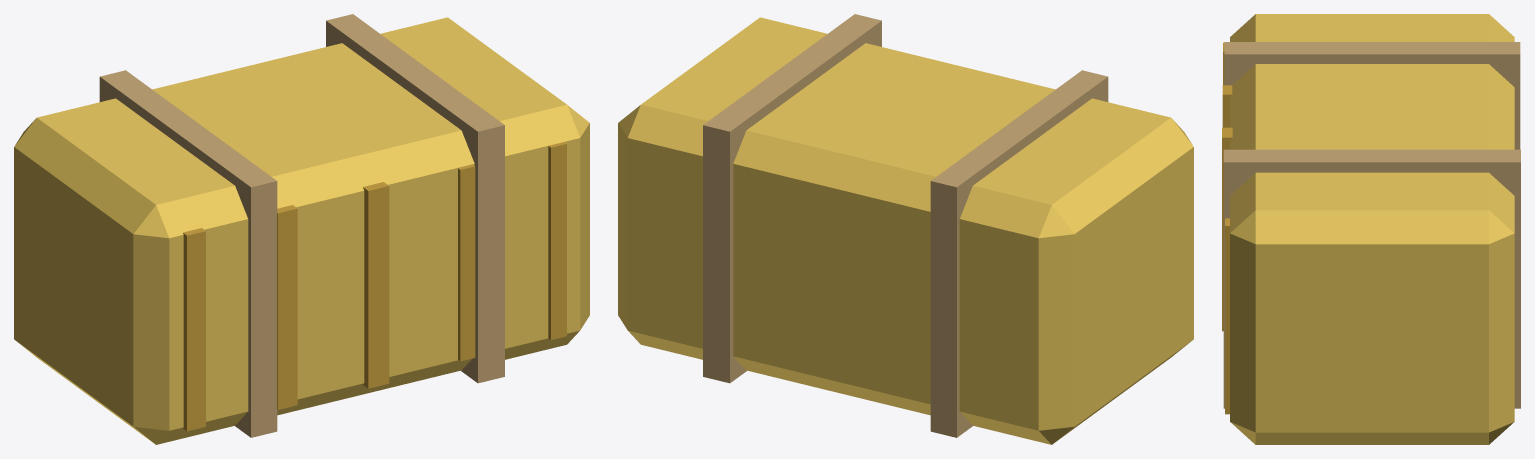
File: Hay_Bale_Square.fbx
3 renders of one model, left to right at view 1: azimuth 30°, elevation 25°; view 2: azimuth 150°, elevation 25°; view 3: azimuth 270°, elevation 25°, orthographic. The views are drawn at different scales.
Visible parts, largest first — view 1: Hay_Bale_Square; view 2: Hay_Bale_Square; view 3: Hay_Bale_Square.
Boxes of the visible parts, left/top/right/bottom form: Hay_Bale_Square: left=14, top=14, right=589, bottom=444; Hay_Bale_Square: left=618, top=14, right=1193, bottom=444; Hay_Bale_Square: left=1222, top=14, right=1520, bottom=444.
Bounding box in the file's own units: 1.01 × 0.5296 × 0.5829.
